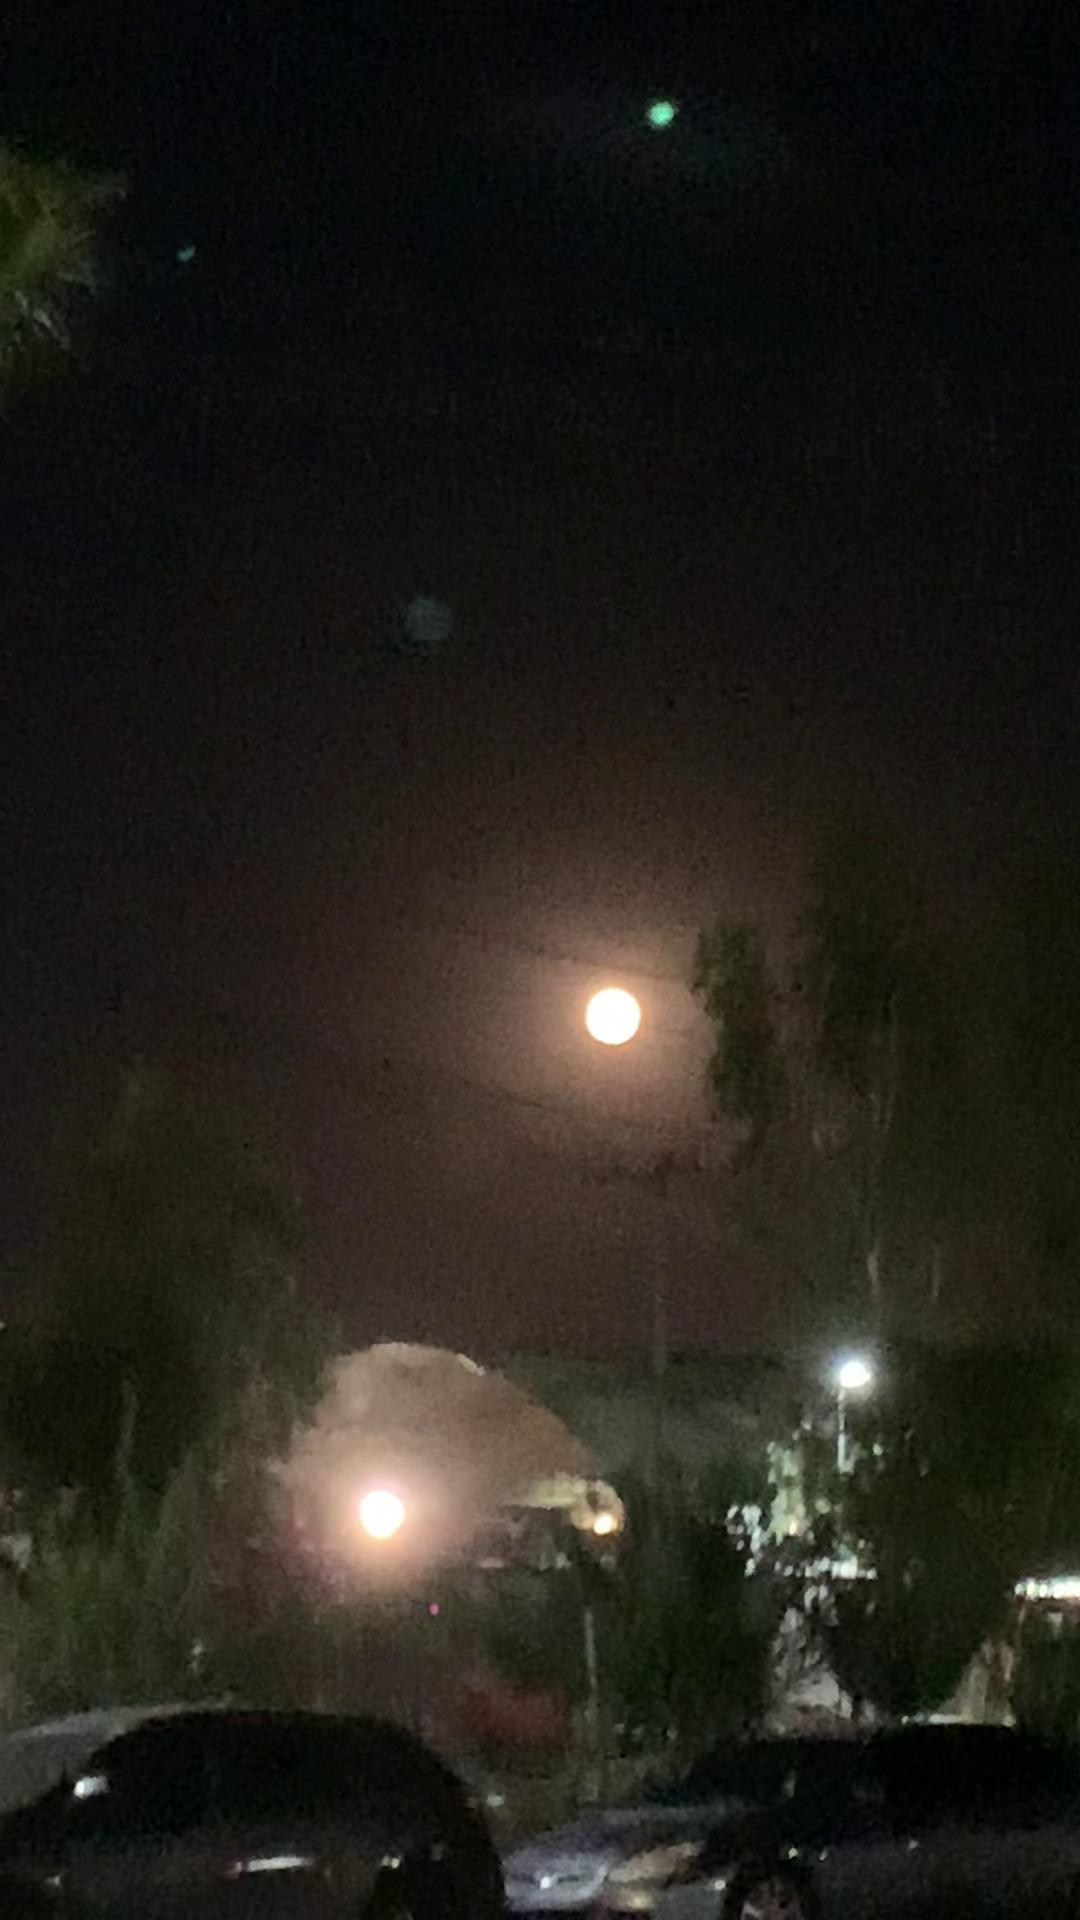moon: (579, 989, 650, 1062)
